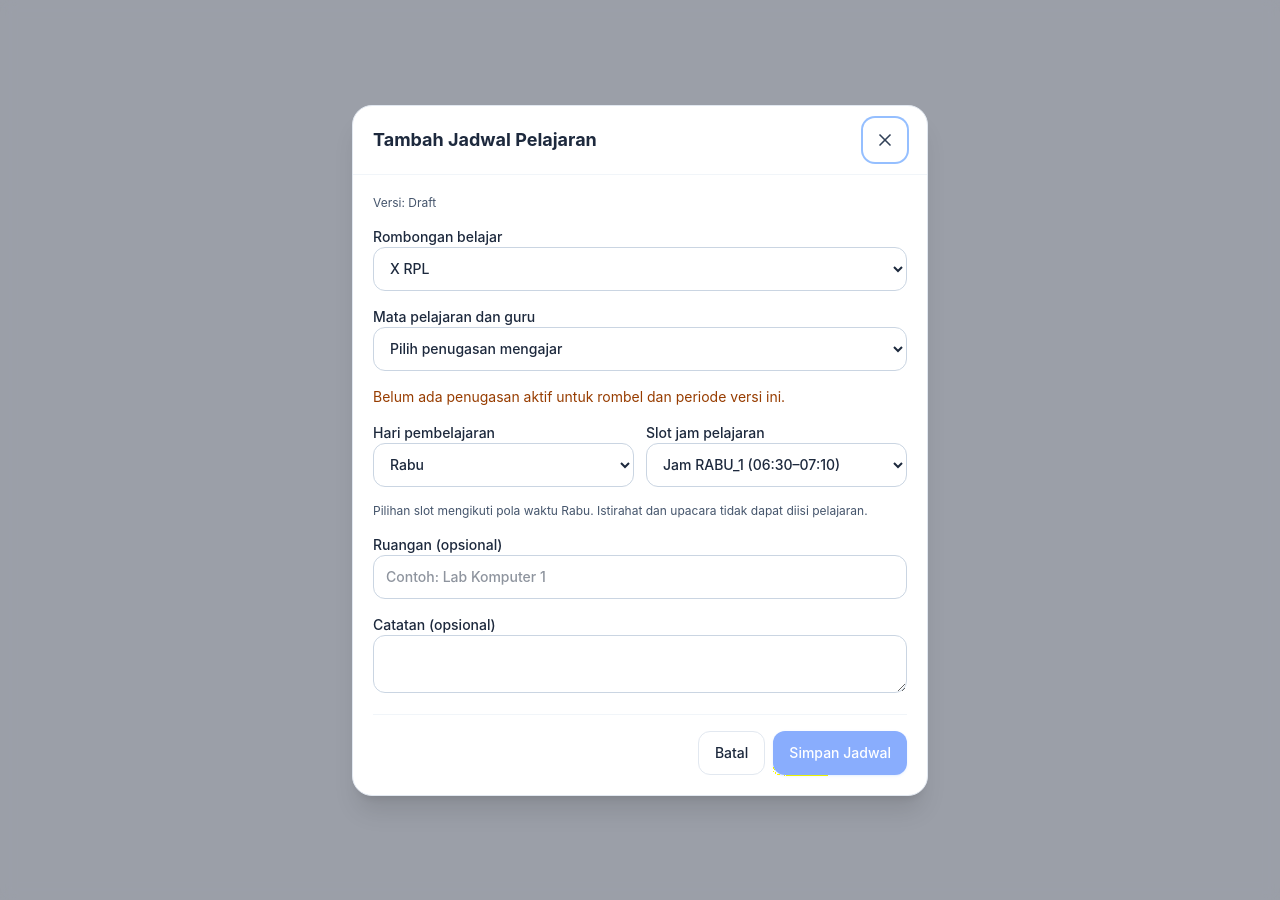
Scenario: Pola slot dan papan mingguan › form mengisi konteks klik dan mengganti pilihan slot saat hari berubah
Check: the dropdown labelled "Slot jam pelajaran" shows "Jam RABU_1 (06:30–07:10)", box x1=646 y1=442 x2=907 y2=486
Select "Senin" in the dropdown labelled "Hari pembelajaran" at (504, 464), box x1=373 y1=442 x2=634 y2=486
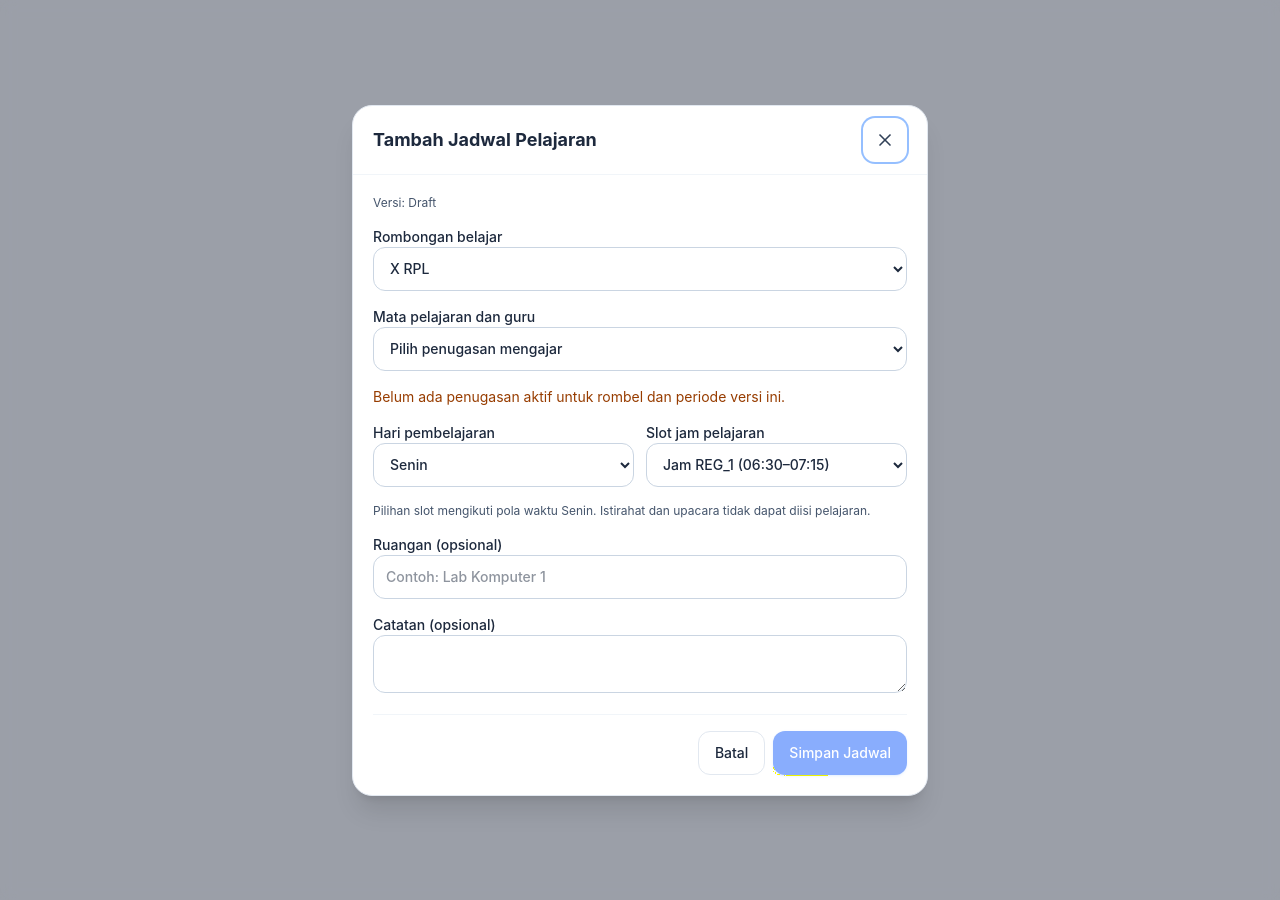
Check: the dropdown labelled "Slot jam pelajaran" shows "Jam REG_1 (06:30–07:15)", box x1=646 y1=442 x2=907 y2=486
